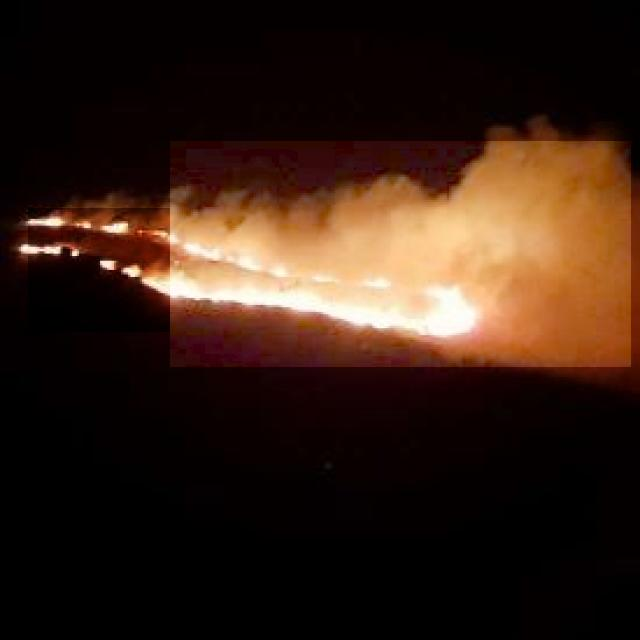Fire: (28, 208, 468, 332)
Smoke: (170, 141, 631, 367)
